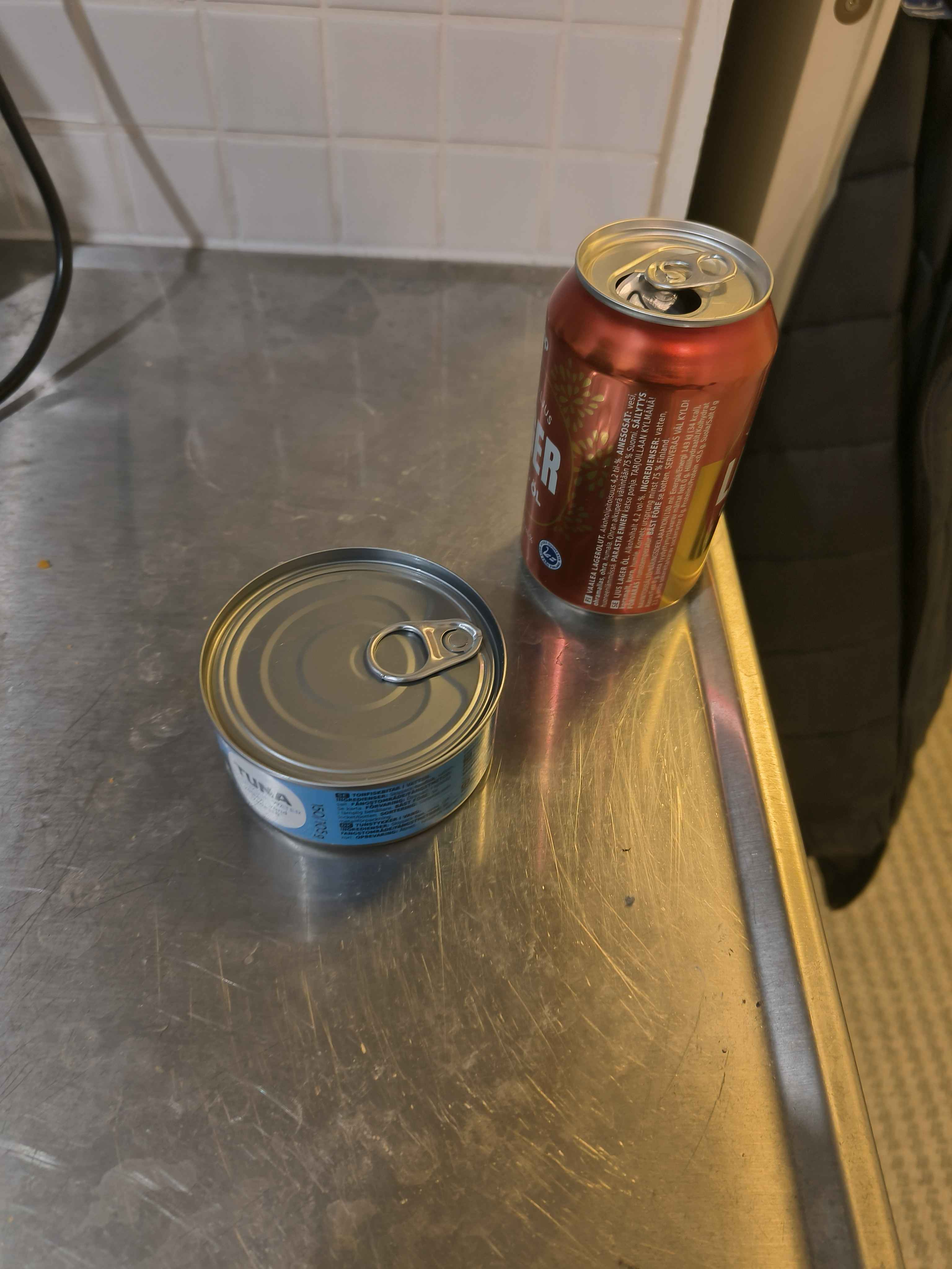Konservburk: (199, 547, 507, 849)
Pantburk: (518, 217, 778, 617)
